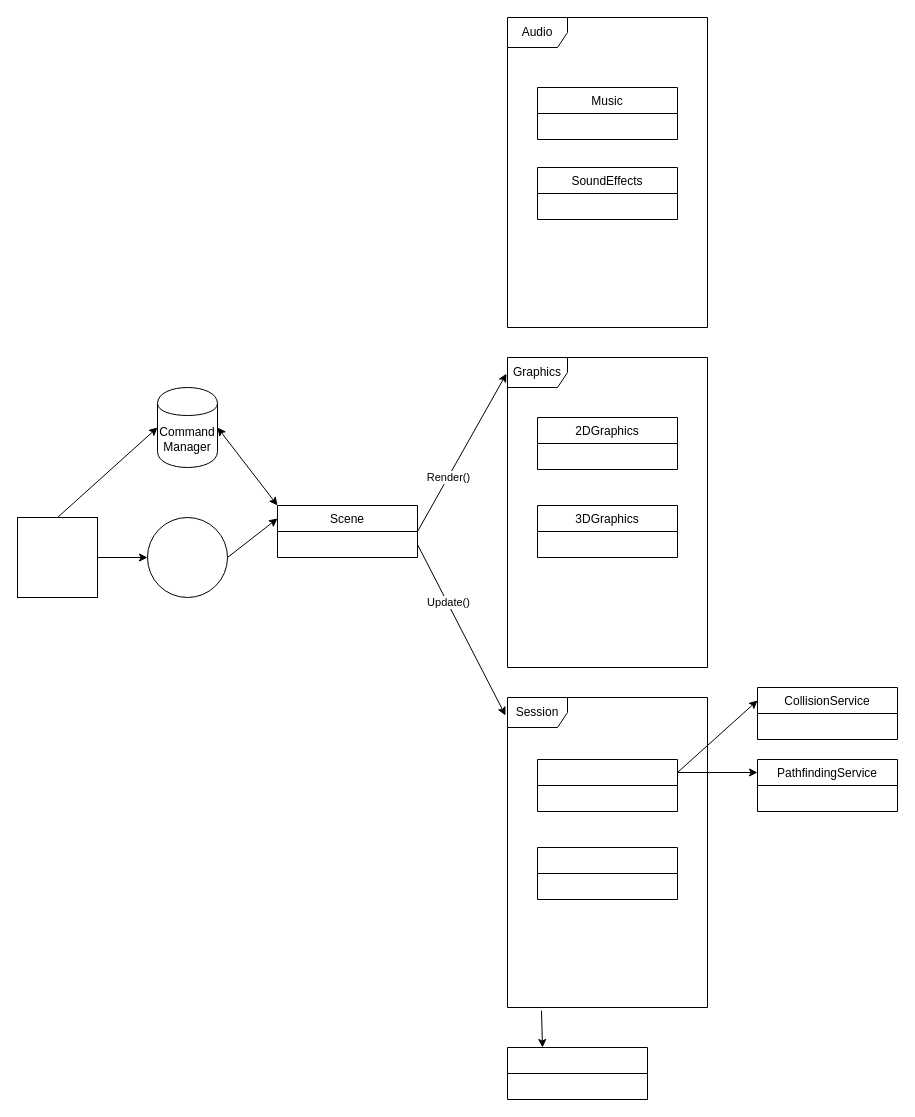
Image size: 915x1117. Some labels were removed from this diagram. The centre of each missing label's shape, as x and y in pixels:
MapHandler: pixel 607 873
Presentation Frontend: pixel 57 557
ResourceLoader: pixel 577 1073
UnitHandler: pixel 607 785
Update Timer: pixel 187 557
